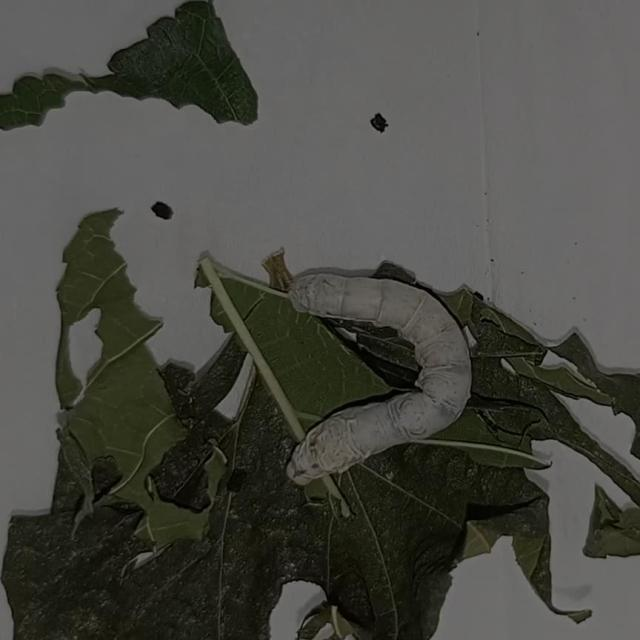Healthy: (258, 200, 527, 499)
